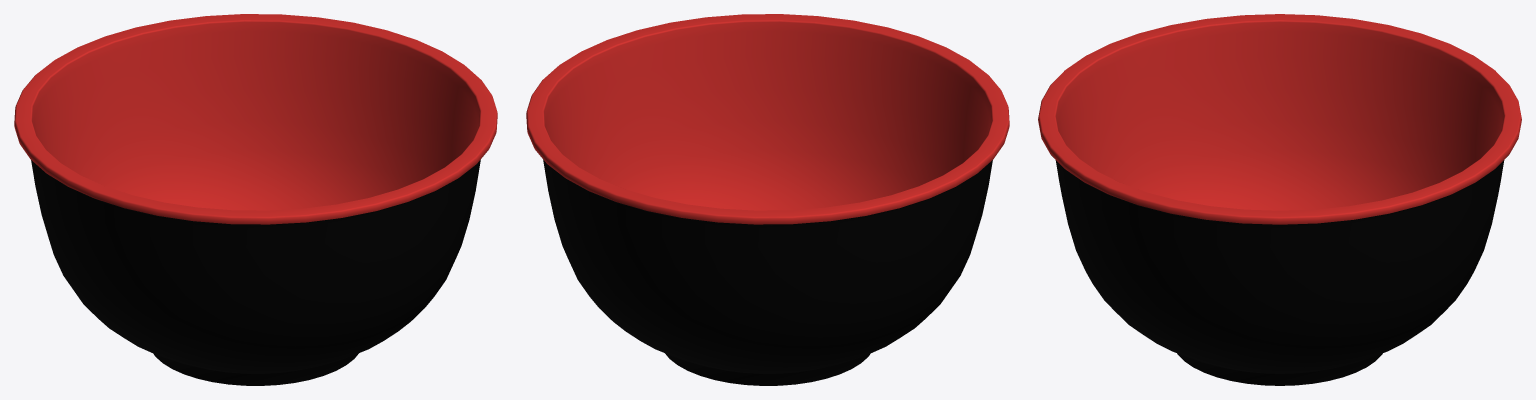
File: bowl.fbx
The picture shows the model from 3 angles, left to right: view 1: azimuth 30°, elevation 25°; view 2: azimuth 150°, elevation 25°; view 3: azimuth 270°, elevation 25°; orthographic projection.
Parts seen in each view (by area): view 1: Cup_1; view 2: Cup_1; view 3: Cup_1.
Boxes of the visible parts, x1,y1,x2,y2 form: Cup_1: [14, 14, 497, 385]; Cup_1: [526, 14, 1009, 385]; Cup_1: [1038, 14, 1521, 385].
Bounding box in the file's own units: 143 × 73.57 × 143.
